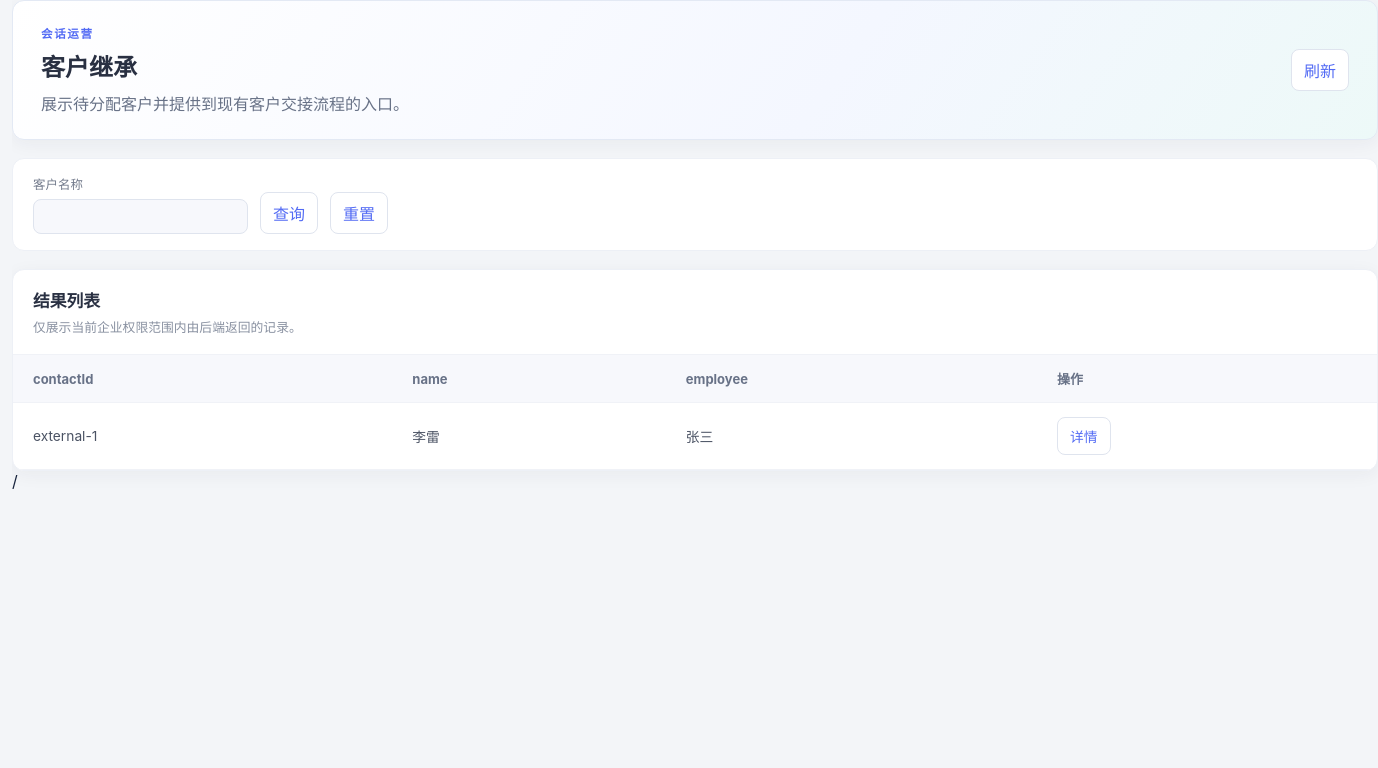
Test case: Phase33OperationsPage › opens record details and navigates to the configured handoff operation
Check: the text "李雷" is shown, box [392,402,666,470]
What coordinates should you click on to do the following:
click the button "详情"
I would click on:
 (1084, 436)
Its box is [1057,417,1111,455].
(page scrolled)
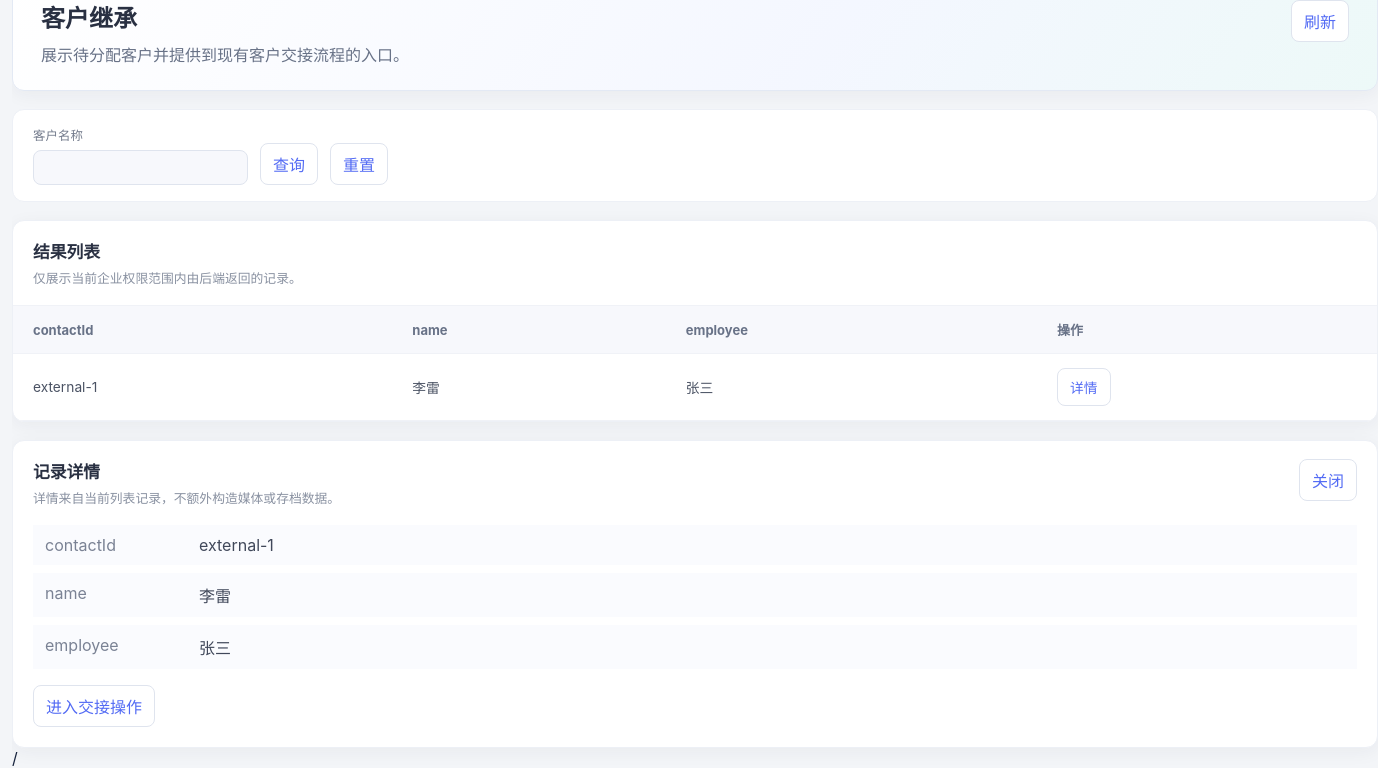
Check: the element labelled "记录详情" shows "张三", box [199,638,231,658]
What coordinates should you click on to do the following:
click the button "进入交接操作"
I would click on:
 (94, 706)
Its box is [33,685,155,727].
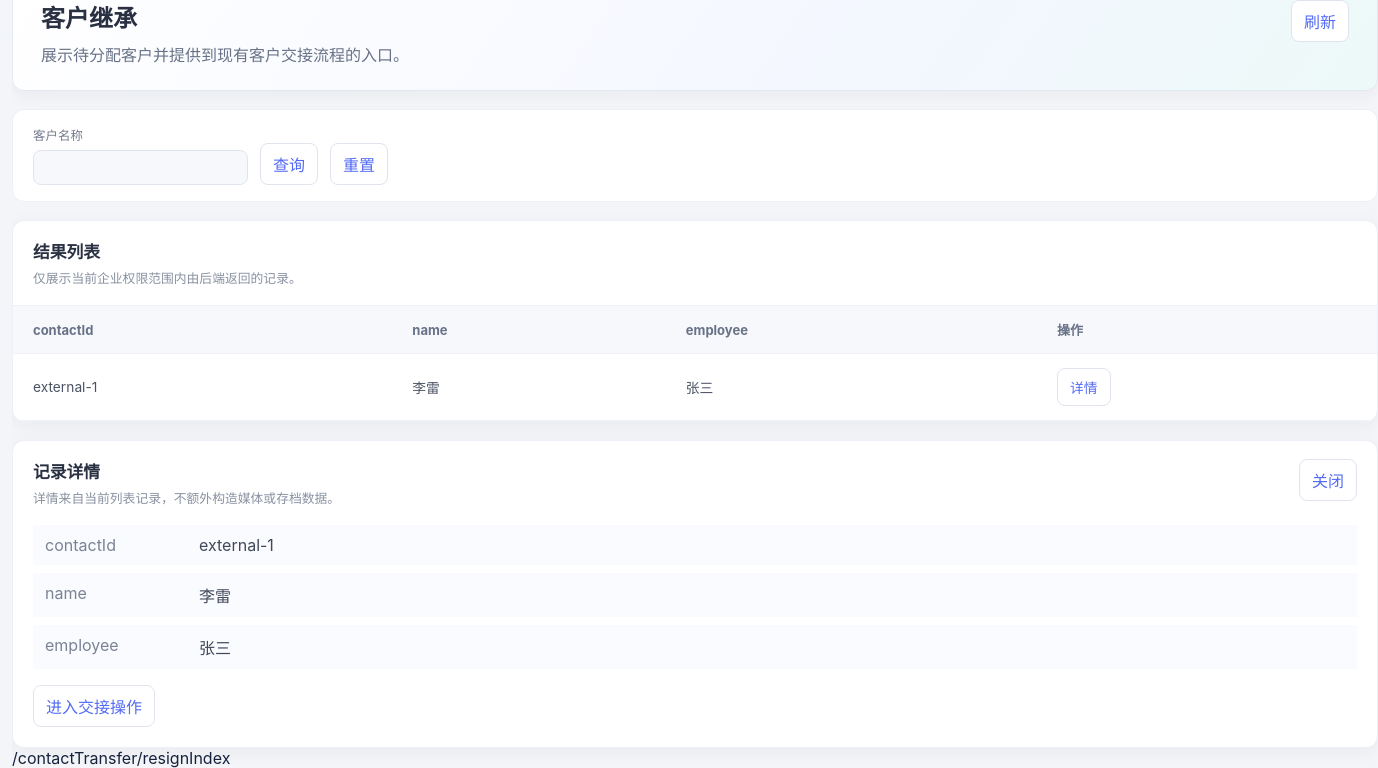
Check: the text with test id "location" reads "/contactTransfer/resignIndex", box [12,748,230,767]
